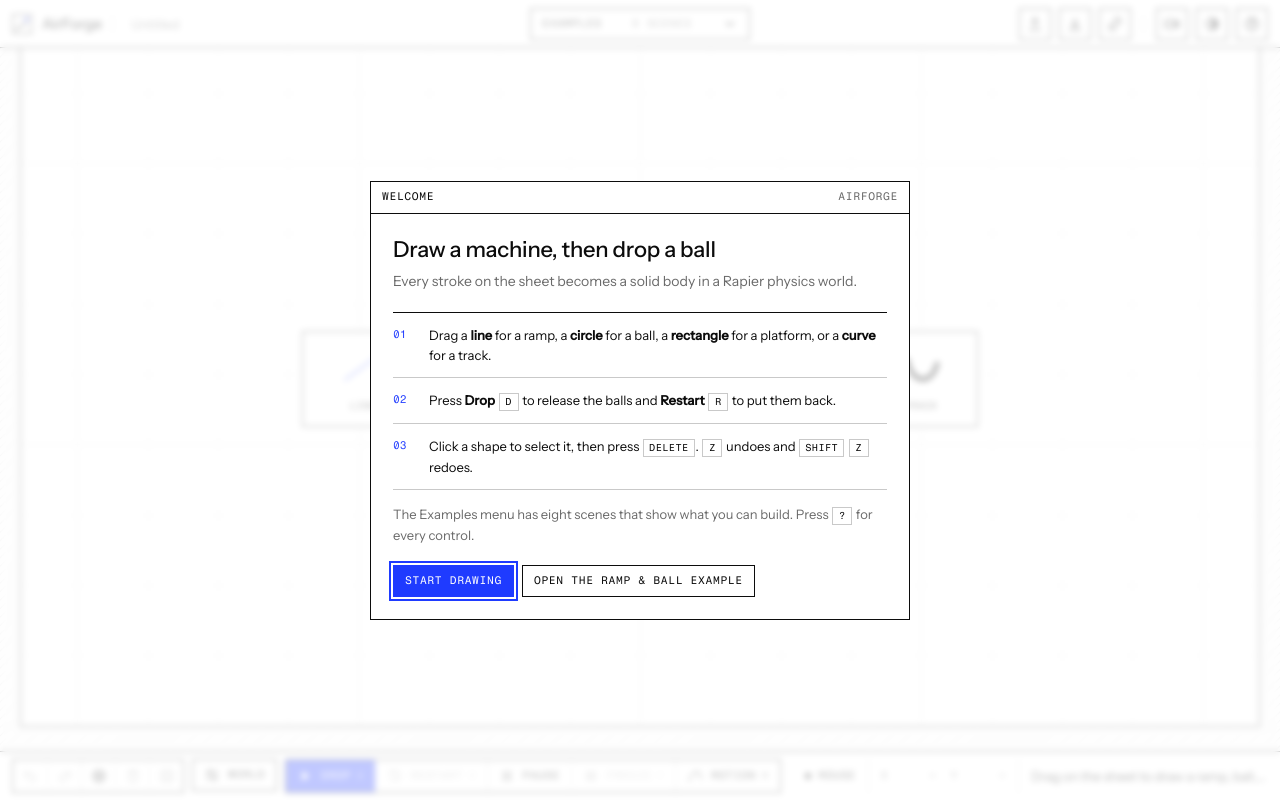
Test: opens the first example from the welcome dialog
Step 1. Click the button "Open the Ramp & Ball example" → (638, 580), box [522, 564, 755, 596]
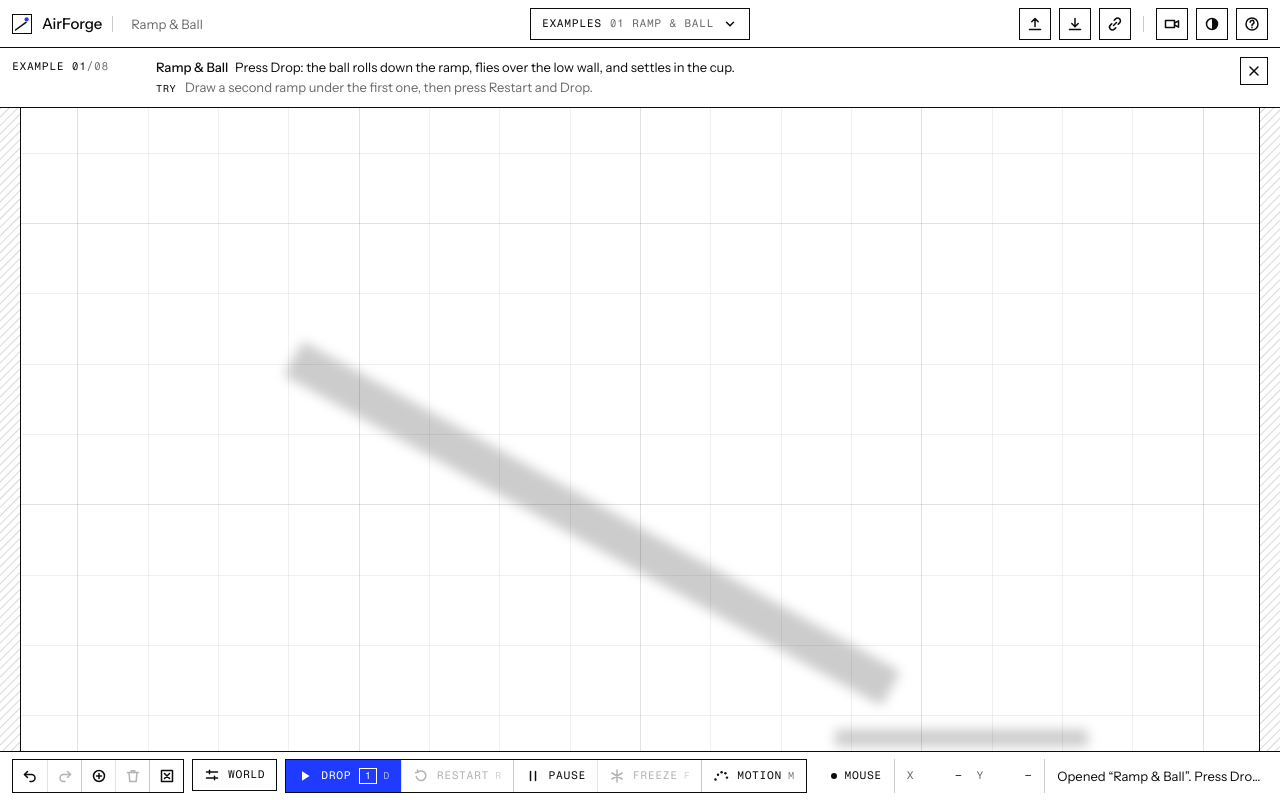
Expected: the element named "About the Ramp & Ball example" shows "settles in the cup", [235, 59, 735, 75]
